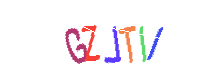G: (36, 0, 116, 80)
I: (90, 0, 170, 80), (102, 0, 182, 80)
J: (67, 0, 147, 80)
T: (71, 0, 151, 80)
Z: (64, 0, 144, 80)
